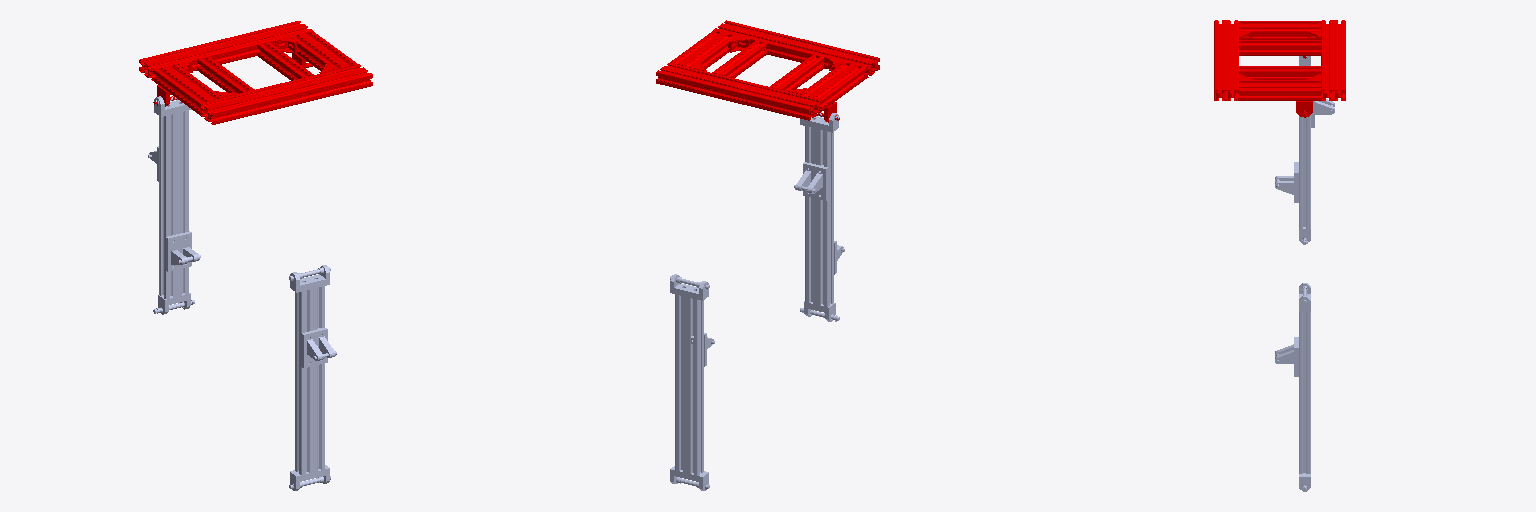
URDF robot description (hmr):
<?xml version="1.0" encoding="utf-8"?>
<robot 
  name="hmr">
  <material name="red">
    <color rgba="1.0 0.0 0.0 1.0"/>
  </material>
  <material name="blue">
    <color rgba="0.0 0.0 1.0 1.0"/>
  </material>
  <material name="black">
    <color rgba="0.0 0.0 0.0 1.0"/>
  </material>    
  <link name="base">
  </link>
  <joint name="joint" type="fixed">
    <parent link="base"/>
    <child link="base_link"/>
  </joint>
  <!--BASE_LINK-->
  <link
    name="base_link">
    <visual>
      <origin
        xyz="0 0 0"
        rpy="0 0 0" />
      <geometry>
        <mesh
          filename="package://hmr/meshes/base_link.STL" />
      </geometry>
      <material name="red">
        <color rgba="1.0 0.0 0.0 1.0"/>
      </material>
    </visual>
    <collision>
      <origin
        xyz="0 0 0"
        rpy="0 0 0" />
      <geometry>
        <mesh
          filename="package://hmr/meshes/base_link.STL" />
      </geometry>
    </collision>
  </link>
  <joint
    name="ljoint1"
    type="continuous">
    <origin
      xyz="0.12 0.06 -0.06"
      rpy="1.5708 0 0" />
    <parent
      link="base_link" />
    <child
      link="llink1" />
    <axis
      xyz="1 0 0" />
  </joint>
  <!--LLINK1-->
  <link
    name="llink1">
    <visual>
      <origin
        xyz="0 0 0"
        rpy="0 0 0" />
      <geometry>
        <mesh
          filename="package://hmr/meshes/llink1.STL" />
      </geometry>
      <material
        name="">
        <color
          rgba="0.792156862745098 0.819607843137255 0.933333333333333 1" />
      </material>
    </visual>
    <collision>
      <origin
        xyz="0 0 0"
        rpy="0 0 0" />
      <geometry>
        <mesh
          filename="package://hmr/meshes/llink1.STL" />
      </geometry>
    </collision>
  </link>  
  <joint
    name="ljoint2"
    type="continuous">
    <origin
      xyz="0 -0.5 0"
      rpy="0 0 0" />
    <parent
      link="llink1" />
    <child
      link="llink2" />
    <axis
      xyz="1 0 0" />
  </joint>
  <!--LLINK2-->
  <link
    name="llink2">
    <visual>
      <origin
        xyz="0 0 0"
        rpy="0 0 0" />
      <geometry>
        <mesh
          filename="package://hmr/meshes/llink2.STL" />
      </geometry>
      <material
        name="">
        <color
          rgba="0.792156862745098 0.819607843137255 0.933333333333333 1" />
      </material>
    </visual>
    <collision>
      <origin
        xyz="0 0 0"
        rpy="0 0 0" />
      <geometry>
        <mesh
          filename="package://hmr/meshes/llink2.STL" />
      </geometry>
    </collision>
  </link>
  <joint
    name="ljoint3"
    type="continuous">
    <origin
      xyz="0 -0.5 0"
      rpy="0 0 0" />
    <parent
      link="llink2" />
    <child
      link="llink3" />
    <axis
      xyz="1 0 0" />
  </joint>
  <!--LLINK3-->
  <link
    name="llink3">
    <visual>
      <origin
        xyz="0 0 0"
        rpy="0 0 0" />
      <geometry>
        <mesh
          filename="package://hmr/meshes/llink3.STL" />
      </geometry>
      <material
        name="">
        <color
          rgba="0.792156862745098 0.819607843137255 0.933333333333333 1" />
      </material>
    </visual>
    <collision>
      <origin
        xyz="0 0 0"
        rpy="0 0 0" />
      <geometry>
        <mesh
          filename="package://hmr/meshes/llink3.STL" />
      </geometry>
    </collision>
  </link>
  <!---->
  <joint
    name="rjoint1"
    type="continuous">
    <origin
      xyz="-0.12 0.06 -0.06"
      rpy="1.5708 0 0" />
    <parent
      link="base_link" />
    <child
      link="rlink1" />
    <axis
      xyz="1 0 0" />
  </joint>
  <!--RLINK1-->
  <link
    name="rlink1">
    <visual>
      <origin
        xyz="0 0 0"
        rpy="0 0 0" />
      <geometry>
        <mesh
          filename="package://hmr/meshes/rlink1.STL" />
      </geometry>
      <material
        name="">
        <color
          rgba="0.792156862745098 0.819607843137255 0.933333333333333 1" />
      </material>
    </visual>
    <collision>
      <origin
        xyz="0 0 0"
        rpy="0 0 0" />
      <geometry>
        <mesh
          filename="package://hmr/meshes/rlink1.STL" />
      </geometry>
    </collision>
  </link>
  <joint
    name="rjoint2"
    type="continuous">
    <origin
      xyz="0 -0.5 0"
      rpy="0 0 0" />
    <parent
      link="rlink1" />
    <child
      link="rlink2" />
    <axis
      xyz="1 0 0" />
  </joint>
  <!--RLINK2-->
  <link
    name="rlink2">
    <visual>
      <origin
        xyz="0 0 0"
        rpy="0 0 0" />
      <geometry>
        <mesh
          filename="package://hmr/meshes/rlink2.STL" />
      </geometry>
      <material
        name="">
        <color
          rgba="0.792156862745098 0.819607843137255 0.933333333333333 1" />
      </material>
    </visual>
    <collision>
      <origin
        xyz="0 0 0"
        rpy="0 0 0" />
      <geometry>
        <mesh
          filename="package://hmr/meshes/rlink2.STL" />
      </geometry>
    </collision>
  </link>
  <joint
    name="rljoint3"
    type="continuous">
    <origin
      xyz="0 -0.5 0"
      rpy="0 0 0" />
    <parent
      link="rlink2" />
    <child
      link="rlink3" />
    <axis
      xyz="1 0 0" />
  </joint>
  <!--RLINK3-->
  <link
    name="rlink3">
    <visual>
      <origin
        xyz="0 0 0"
        rpy="0 0 0" />
      <geometry>
        <mesh
          filename="package://hmr/meshes/rlink3.STL" />
      </geometry>
      <material
        name="">
        <color
          rgba="0.792156862745098 0.819607843137255 0.933333333333333 1" />
      </material>
    </visual>
    <collision>
      <origin
        xyz="0 0 0"
        rpy="0 0 0" />
      <geometry>
        <mesh
          filename="package://hmr/meshes/rlink3.STL" />
      </geometry>
    </collision>
  </link>
</robot>

--- Render facts (derived) ---
3 views of the same robot in one strip: view 1: azimuth 30°, elevation 25°; view 2: azimuth 150°, elevation 25°; view 3: azimuth 270°, elevation 25° (orthographic).
Model hmr with 8 links and 7 joints (6 continuous, 1 fixed), rooted at base, posed all joints at 0.
Visible links, largest first — view 1: base_link, llink2, rlink1; view 2: base_link, llink2, rlink1; view 3: base_link, llink2, rlink1.
Boxes of the visible links, x1,y1,x2,y2 form: base_link: (139,21,372,124); llink2: (289,265,336,490); rlink1: (148,96,200,314); base_link: (656,20,879,122); llink2: (670,274,714,490); rlink1: (794,112,844,321); base_link: (1214,20,1345,117); llink2: (1275,283,1310,491); rlink1: (1275,56,1334,244).
Bounding box of the posed robot: 0.44 × 0.32 × 1.07 m (x, y, z).
Meshes: 7 distinct files referenced, 3 mesh visuals loaded (3 binary STL); not drawn: 4 (reference not matched to a file when rendering).